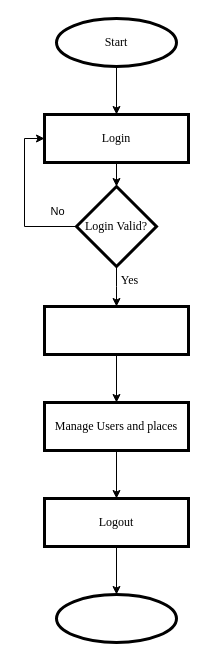
Image size: 207x661. Some labels were removed from this diagram. The box of each missing label's shape, as (x1, y1, x2, y2) in pixels:
Admin dashboard: (42, 304, 190, 356)
End: (54, 592, 178, 644)
